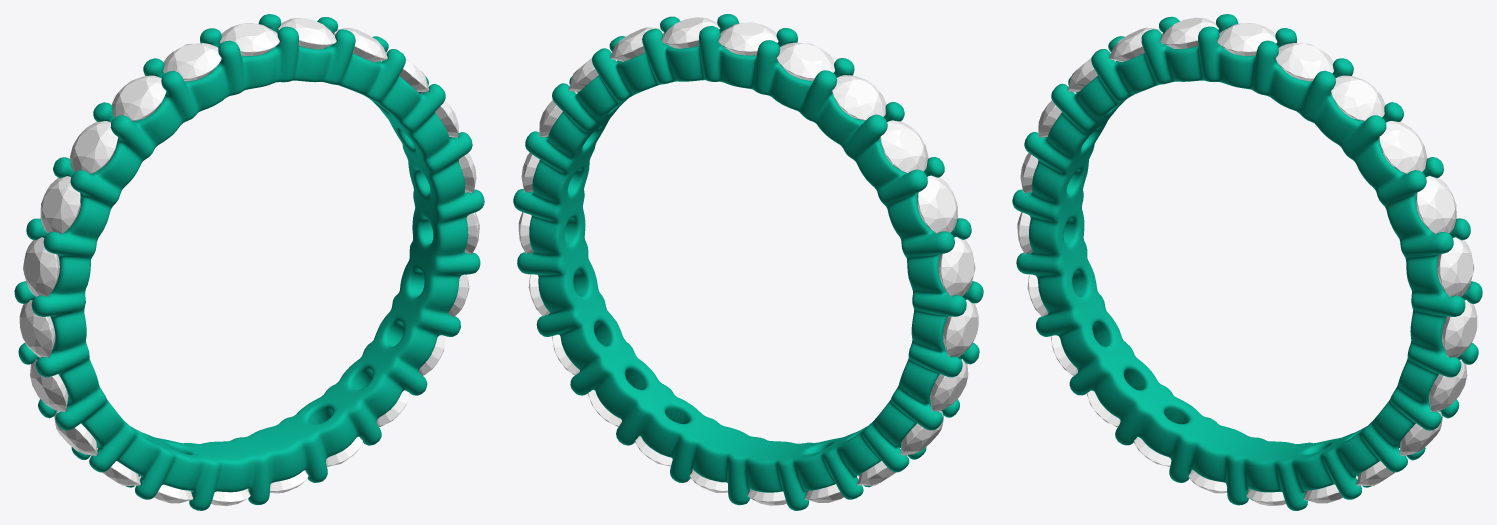
The model's file is BE2SD24R144_RENDER.glb.
The picture shows the model from 3 angles, left to right: view 1: azimuth 30°, elevation 25°; view 2: azimuth 150°, elevation 25°; view 3: azimuth 330°, elevation 25°; orthographic projection.
Parts seen in each view (by area): view 1: Metal03, Diamond_Round_Gem_BD.002, Diamond_Round_Gem_BD.021, Diamond_Round_Gem_BD.003, Diamond_Round_Gem_BD.004, Diamond_Round_Gem_BD.001, Diamond_Round_Gem_BD.005, Diamond_Round_Gem_BD.022, Diamond_Round_Gem_BD.006, Diamond_Round_Gem_BD, Diamond_Round_Gem_BD.020, Diamond_Round_Gem_BD.007 (+3 smaller); view 2: Metal03, Diamond_Round_Gem_BD.002, Diamond_Round_Gem_BD.003, Diamond_Round_Gem_BD.021, Diamond_Round_Gem_BD.004, Diamond_Round_Gem_BD.001, Diamond_Round_Gem_BD.005, Diamond_Round_Gem_BD.022, Diamond_Round_Gem_BD.006, Diamond_Round_Gem_BD, Diamond_Round_Gem_BD.020, Diamond_Round_Gem_BD.007 (+2 smaller); view 3: Metal03, Diamond_Round_Gem_BD.019, Diamond_Round_Gem_BD.018, Diamond_Round_Gem_BD.020, Diamond_Round_Gem_BD.017, Diamond_Round_Gem_BD, Diamond_Round_Gem_BD.016, Diamond_Round_Gem_BD.022, Diamond_Round_Gem_BD.015, Diamond_Round_Gem_BD.001, Diamond_Round_Gem_BD.014, Diamond_Round_Gem_BD.021 (+4 smaller).
Part boxes in pixels (x1=…): Metal03: x1=14, y1=14, x2=484, y2=510; Diamond_Round_Gem_BD.002: x1=70, y1=121, x2=117, y2=173; Diamond_Round_Gem_BD.021: x1=111, y1=75, x2=166, y2=121; Diamond_Round_Gem_BD.003: x1=40, y1=176, x2=80, y2=233; Diamond_Round_Gem_BD.004: x1=23, y1=237, x2=59, y2=296; Diamond_Round_Gem_BD.001: x1=163, y1=43, x2=221, y2=81; Diamond_Round_Gem_BD.005: x1=19, y1=300, x2=55, y2=357; Diamond_Round_Gem_BD.022: x1=220, y1=23, x2=279, y2=55; Diamond_Round_Gem_BD.006: x1=30, y1=359, x2=68, y2=411; Diamond_Round_Gem_BD: x1=278, y1=18, x2=336, y2=49; Diamond_Round_Gem_BD.020: x1=334, y1=28, x2=387, y2=62; Diamond_Round_Gem_BD.007: x1=54, y1=411, x2=97, y2=455; Metal03: x1=513, y1=14, x2=983, y2=510; Diamond_Round_Gem_BD.002: x1=880, y1=120, x2=928, y2=173; Diamond_Round_Gem_BD.003: x1=917, y1=175, x2=957, y2=233; Diamond_Round_Gem_BD.021: x1=832, y1=75, x2=886, y2=120; Diamond_Round_Gem_BD.004: x1=938, y1=237, x2=975, y2=296; Diamond_Round_Gem_BD.001: x1=776, y1=42, x2=834, y2=80; Diamond_Round_Gem_BD.005: x1=943, y1=299, x2=978, y2=357; Diamond_Round_Gem_BD.022: x1=718, y1=22, x2=778, y2=55; Diamond_Round_Gem_BD.006: x1=930, y1=359, x2=968, y2=411; Diamond_Round_Gem_BD: x1=661, y1=17, x2=719, y2=48; Diamond_Round_Gem_BD.020: x1=610, y1=27, x2=664, y2=61; Diamond_Round_Gem_BD.007: x1=900, y1=411, x2=944, y2=455; Metal03: x1=1012, y1=14, x2=1482, y2=510; Diamond_Round_Gem_BD.019: x1=1379, y1=121, x2=1427, y2=173; Diamond_Round_Gem_BD.018: x1=1416, y1=176, x2=1456, y2=233; Diamond_Round_Gem_BD.020: x1=1331, y1=75, x2=1385, y2=121; Diamond_Round_Gem_BD.017: x1=1437, y1=237, x2=1474, y2=296; Diamond_Round_Gem_BD: x1=1275, y1=43, x2=1333, y2=81; Diamond_Round_Gem_BD.016: x1=1442, y1=300, x2=1477, y2=357; Diamond_Round_Gem_BD.022: x1=1217, y1=23, x2=1277, y2=55; Diamond_Round_Gem_BD.015: x1=1429, y1=359, x2=1467, y2=411; Diamond_Round_Gem_BD.001: x1=1160, y1=17, x2=1218, y2=48; Diamond_Round_Gem_BD.014: x1=1399, y1=411, x2=1442, y2=455; Diamond_Round_Gem_BD.021: x1=1109, y1=27, x2=1162, y2=61.
Bounding box in the file's own units: 21.07 × 21.04 × 2.51.
